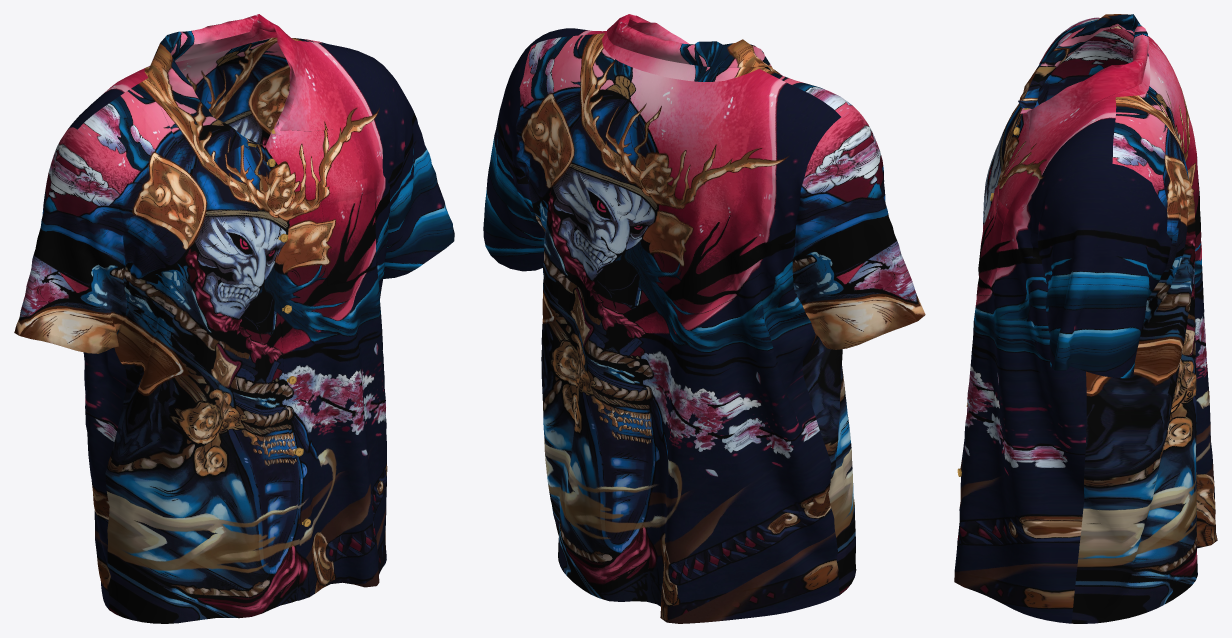
Rendered from ronin.glb.
3 views of the same model, side by side, from view 1: azimuth 30°, elevation 25°; view 2: azimuth 150°, elevation 25°; view 3: azimuth 270°, elevation 25° (orthographic). The views are drawn at different scales.
Parts seen in each view (by area): view 1: Object_6, Object_13, Object_3, Object_5, Object_12, Object_4, Object_11, Object_8, Object_7; view 2: Object_3, Object_13, Object_6, Object_12, Object_5, Object_8; view 3: Object_3, Object_6, Object_12, Object_5, Object_13, Object_11, Object_7, Object_4.
Boxes of the visible parts, bbox=[...] form: Object_6: bbox=[78, 40, 398, 623]; Object_13: bbox=[16, 127, 128, 347]; Object_3: bbox=[67, 37, 331, 609]; Object_5: bbox=[144, 14, 333, 169]; Object_12: bbox=[375, 59, 452, 271]; Object_4: bbox=[245, 124, 311, 600]; Object_11: bbox=[319, 175, 376, 285]; Object_8: bbox=[14, 325, 111, 353]; Object_7: bbox=[383, 227, 454, 278]; Object_3: bbox=[515, 33, 840, 623]; Object_13: bbox=[792, 111, 921, 342]; Object_6: bbox=[532, 28, 861, 594]; Object_12: bbox=[483, 40, 544, 264]; Object_5: bbox=[602, 14, 782, 81]; Object_8: bbox=[820, 307, 925, 349]; Object_3: bbox=[1071, 30, 1217, 623]; Object_6: bbox=[954, 17, 1116, 623]; Object_12: bbox=[1037, 163, 1171, 370]; Object_5: bbox=[1024, 14, 1150, 154]; Object_13: bbox=[1037, 28, 1133, 104]; Object_11: bbox=[978, 180, 1008, 298]; Object_7: bbox=[1050, 358, 1134, 378]; Object_4: bbox=[960, 96, 1035, 479].
Bounding box in the file's own units: 0.589 × 0.7019 × 0.3166.
2 materials, 1 textured.
